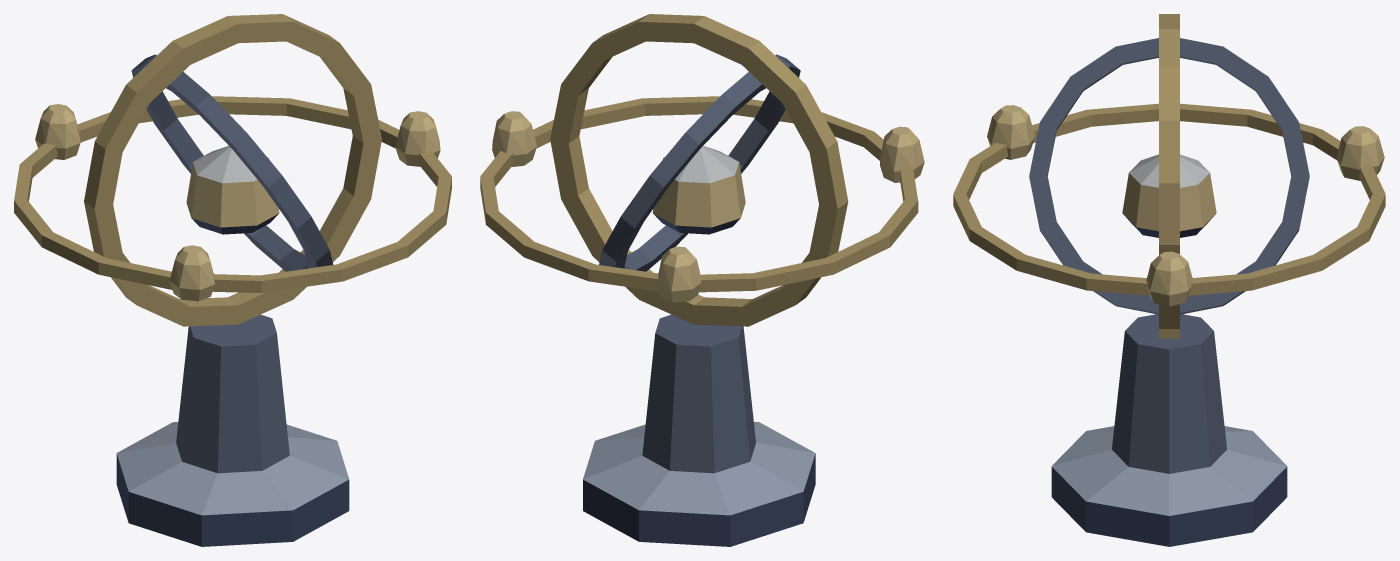
The model's file is orrery.glb.
3 renders of one model, left to right at view 1: azimuth 30°, elevation 25°; view 2: azimuth 150°, elevation 25°; view 3: azimuth 270°, elevation 25°, orthographic. The views are drawn at different scales.
Visible parts, largest first — view 1: orrery__body; view 2: orrery__body; view 3: orrery__body.
Part boxes in pixels (left/top/right/bottom): orrery__body: left=14, top=14, right=451, bottom=546; orrery__body: left=480, top=14, right=924, bottom=546; orrery__body: left=953, top=14, right=1385, bottom=546.
Bounding box in the file's own units: 1.72 × 1.97 × 1.65.
